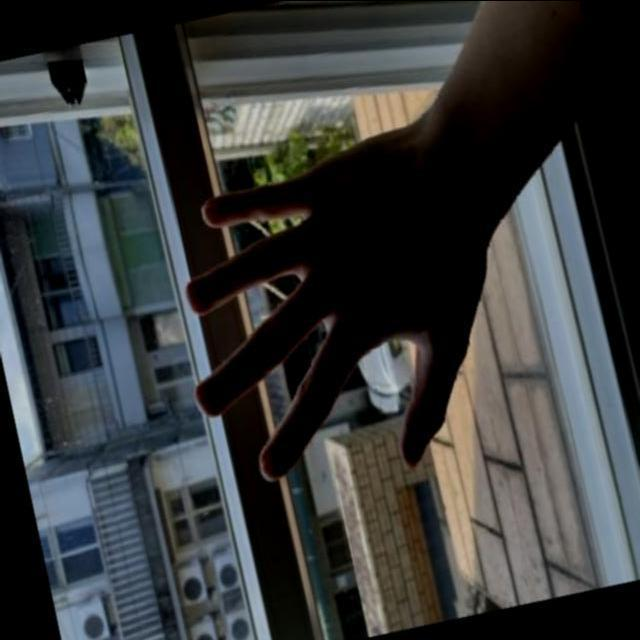hand: (123, 76, 557, 544)
